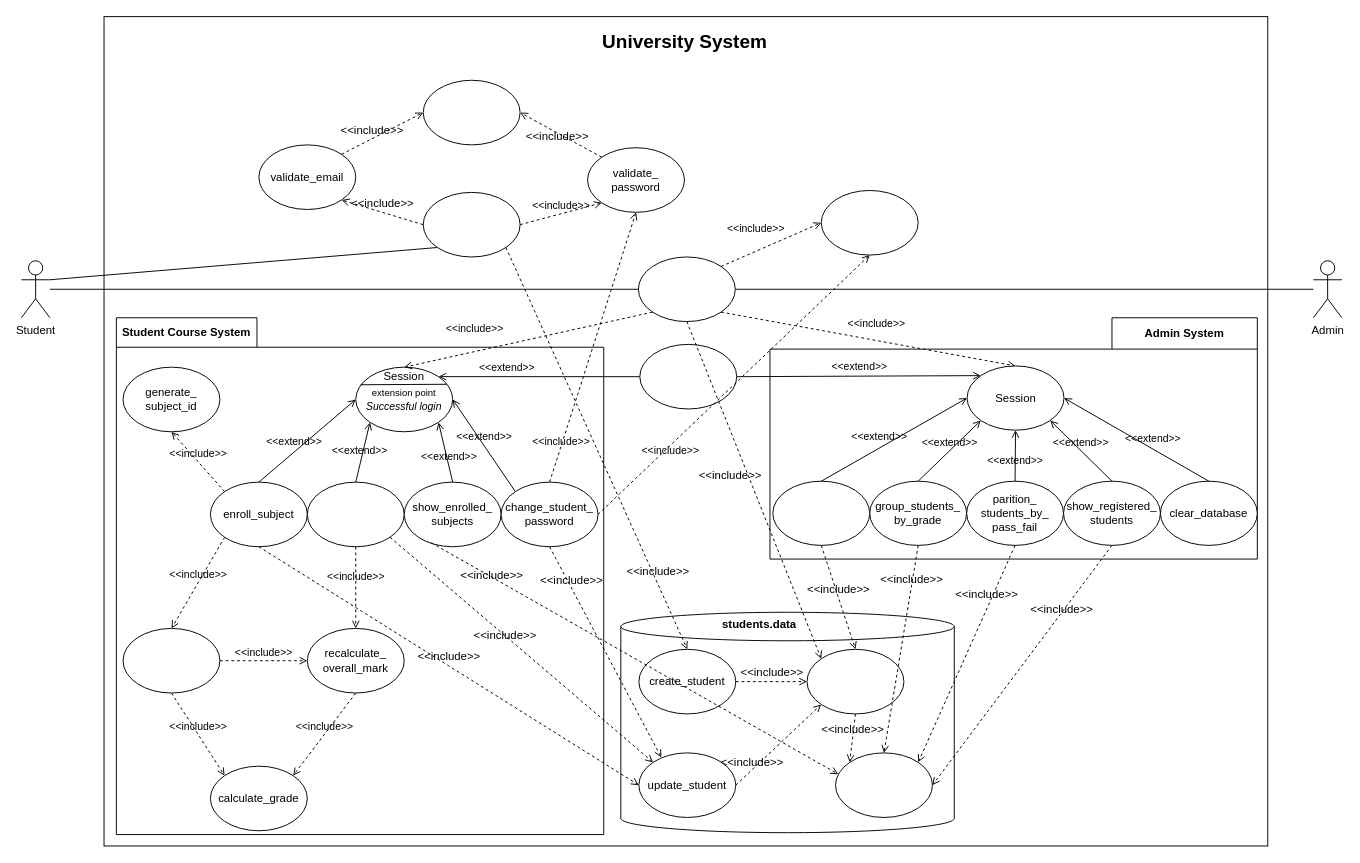
This 1360x863 diagram has some shape labels left out. Here are the shapes that lost their labels. From the top down, the centre of each, then its label:
(x=471, y=112): generate_ student_id
(x=471, y=224): register_ student
(x=869, y=222): verify_ password
(x=686, y=289): login
(x=688, y=376): logout
(x=355, y=514): remove_ subject_ by_id
(x=821, y=512): remove_ student_ by_id
(x=171, y=660): generate_ subject_mark
(x=855, y=681): get_student_ if_existed
(x=883, y=784): load_students
